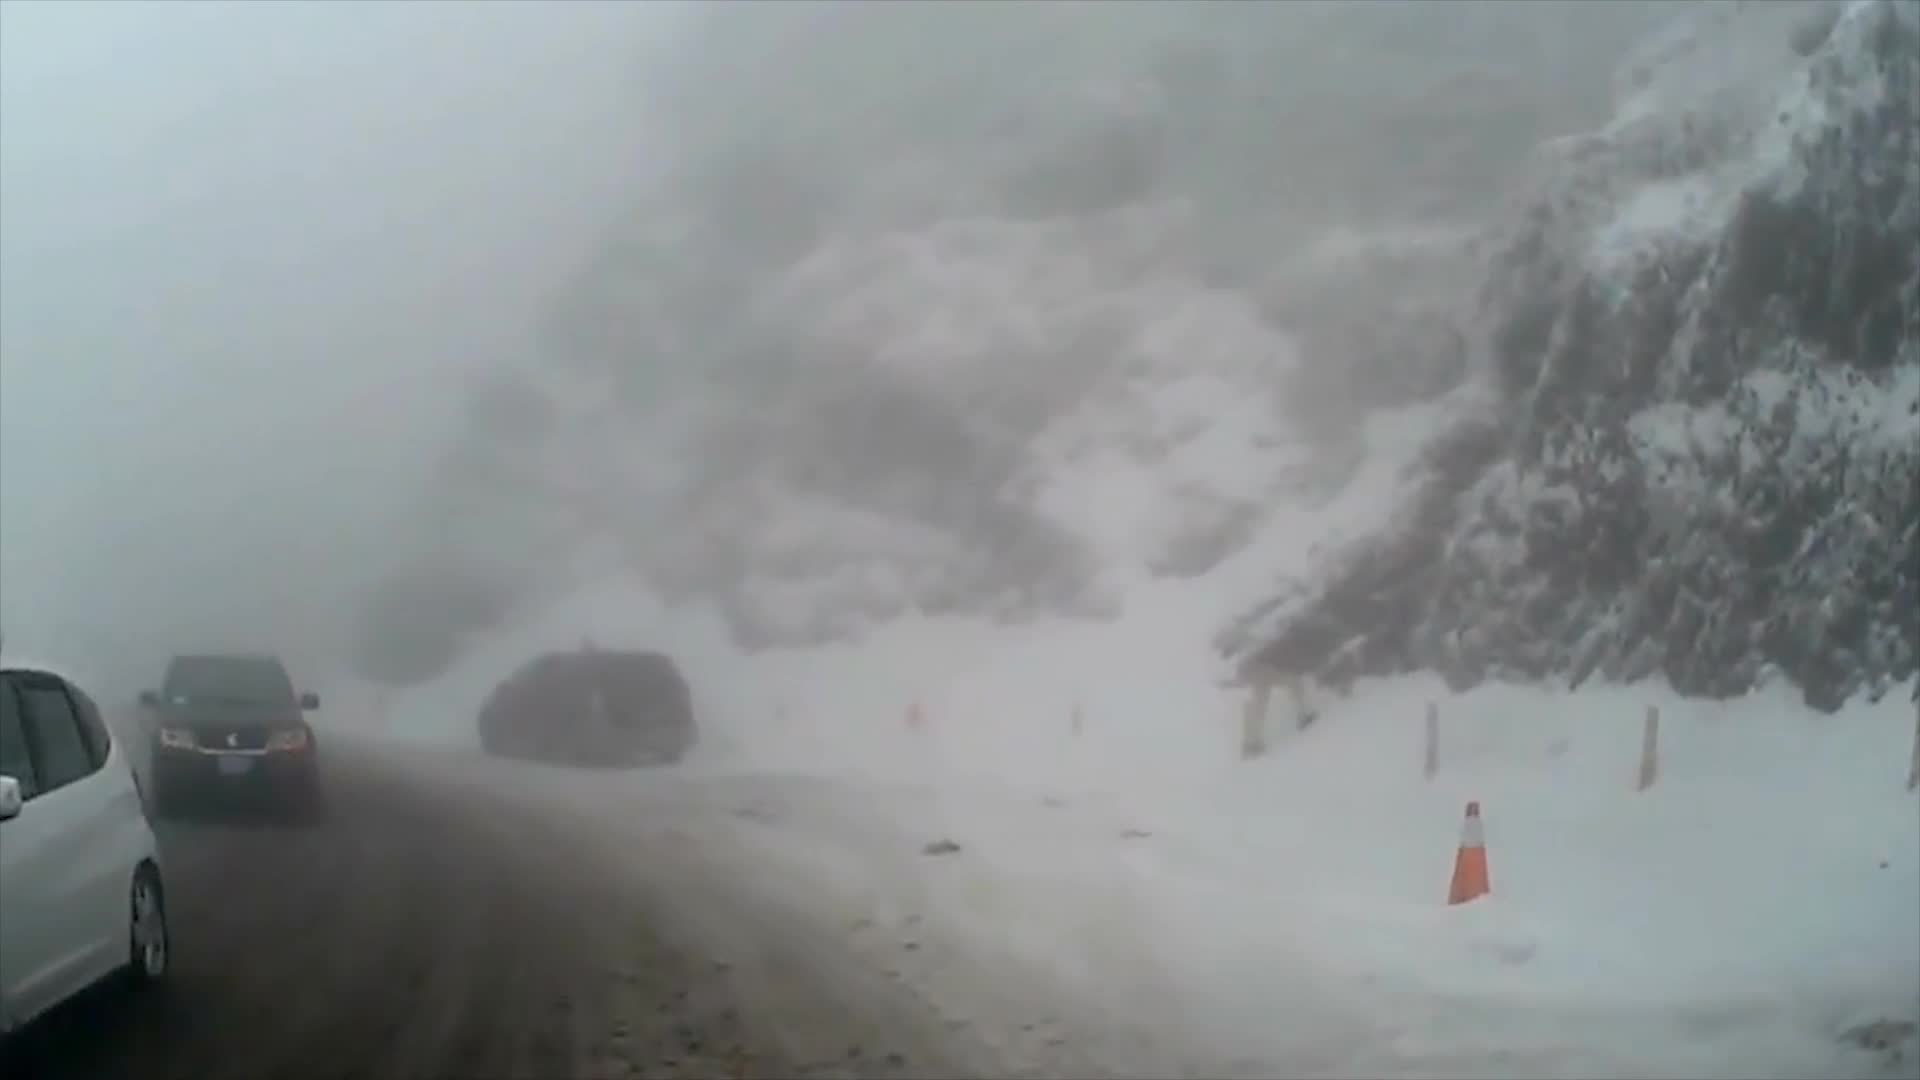vehicle: (0, 655, 167, 1059), (135, 647, 324, 820), (473, 630, 690, 752)
